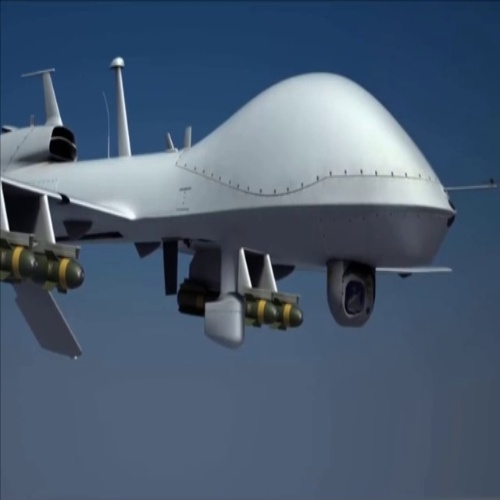uav: (3, 55, 498, 360)
